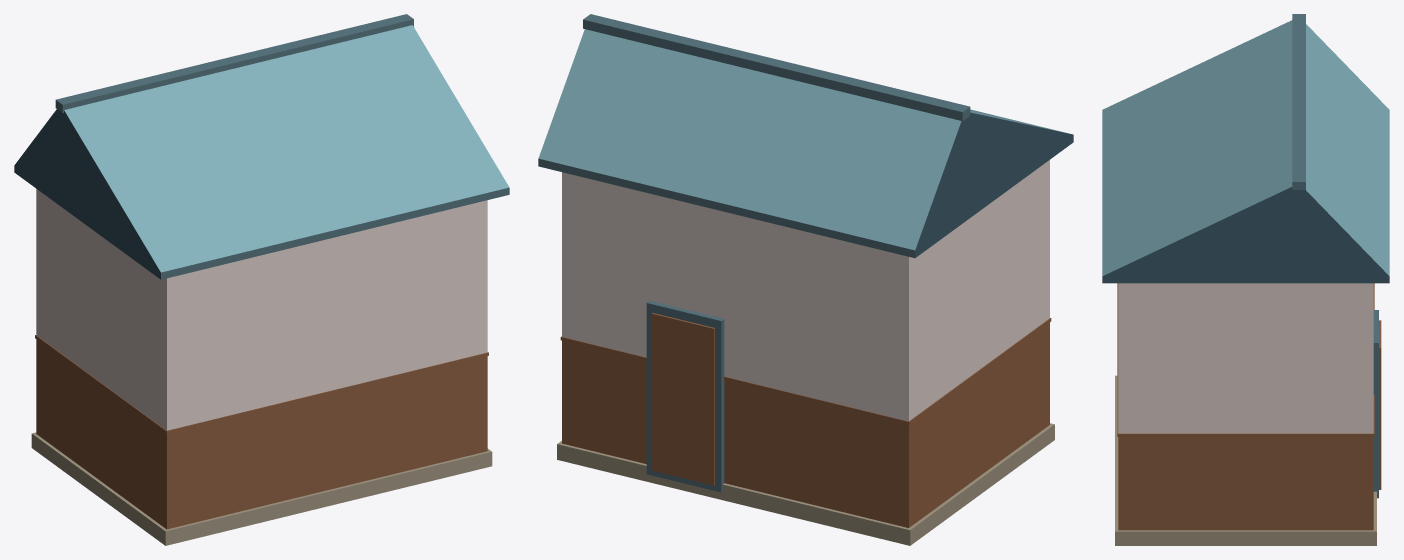
The model's file is teal_house.glb.
3 renders of one model, left to right at view 1: azimuth 30°, elevation 25°; view 2: azimuth 150°, elevation 25°; view 3: azimuth 270°, elevation 25°, orthographic. The views are drawn at different scales.
Visible parts, largest first — view 1: FoldedRoof, PlasterWalls, TimberSkirt, StoneFooting, RidgeCap, SkirtFlashing; view 2: PlasterWalls, FoldedRoof, TimberSkirt, RearDoor, StoneFooting, RidgeCap, RearDoorFrame, SkirtFlashing; view 3: FoldedRoof, PlasterWalls, TimberSkirt, StoneFooting, RidgeCap, SkirtFlashing, RearDoorFrame, RearDoor.
Boxes of the visible parts, x1,y1,x2,y2 form: FoldedRoof: [14, 25, 509, 279]; PlasterWalls: [36, 189, 487, 430]; TimberSkirt: [36, 339, 487, 529]; StoneFooting: [31, 432, 492, 545]; RidgeCap: [55, 14, 413, 112]; SkirtFlashing: [35, 335, 488, 434]; PlasterWalls: [562, 160, 1049, 421]; FoldedRoof: [538, 29, 1073, 258]; TimberSkirt: [562, 322, 1049, 527]; RearDoor: [651, 313, 714, 485]; StoneFooting: [557, 423, 1054, 545]; RidgeCap: [583, 14, 970, 121]; RearDoorFrame: [646, 300, 724, 492]; SkirtFlashing: [560, 318, 1051, 425]; FoldedRoof: [1102, 20, 1389, 283]; PlasterWalls: [1118, 283, 1373, 433]; TimberSkirt: [1118, 437, 1373, 530]; StoneFooting: [1115, 375, 1376, 545]; RidgeCap: [1292, 14, 1305, 189]; SkirtFlashing: [1117, 283, 1374, 436]; RearDoorFrame: [1373, 310, 1378, 498]; RearDoor: [1379, 320, 1381, 489].
Size of the model in its own units: 3.29 by 3.38 by 2.38.
